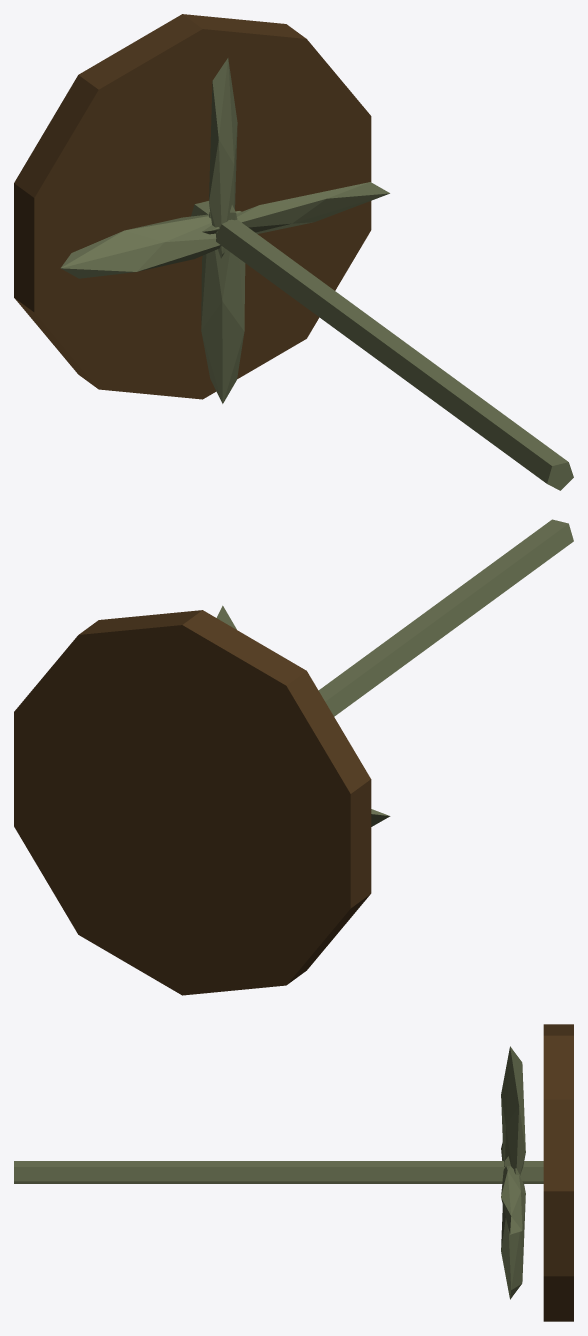
The model's file is 2_growing.obj.
3 views of the same model, one above another, from view 1: azimuth 30°, elevation 25°; view 2: azimuth 150°, elevation 25°; view 3: azimuth 270°, elevation 25° (orthographic). The views are drawn at different scales.
Parts seen in each view (by area): view 1: lavender_2_growing; view 2: lavender_2_growing; view 3: lavender_2_growing.
Part boxes in pixels (x1,y1,x2,y2): lavender_2_growing: [14, 14, 573, 490]; lavender_2_growing: [14, 519, 573, 995]; lavender_2_growing: [14, 1024, 573, 1321].
Size of the model in its own units: 0.1902 by 0.2 by 0.37.
